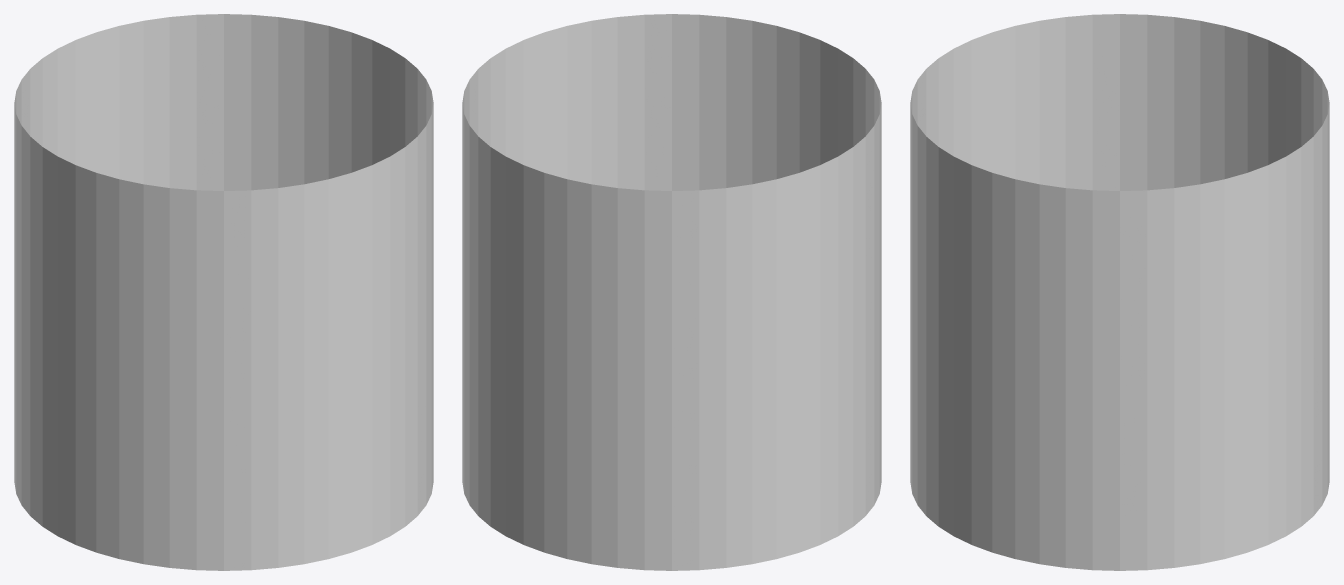
Rendered from LightPillar.fbx.
3 renders of one model, left to right at view 1: azimuth 30°, elevation 25°; view 2: azimuth 150°, elevation 25°; view 3: azimuth 270°, elevation 25°, orthographic.
Visible parts, largest first — view 1: LightPillar; view 2: LightPillar; view 3: LightPillar.
Boxes of the visible parts, box(x1,y1,x2,y2) form: LightPillar: box(14, 14, 433, 570); LightPillar: box(462, 14, 881, 570); LightPillar: box(910, 14, 1329, 570).
Size of the model in its own units: 2 by 2 by 2.
1 material, 1 textured.
